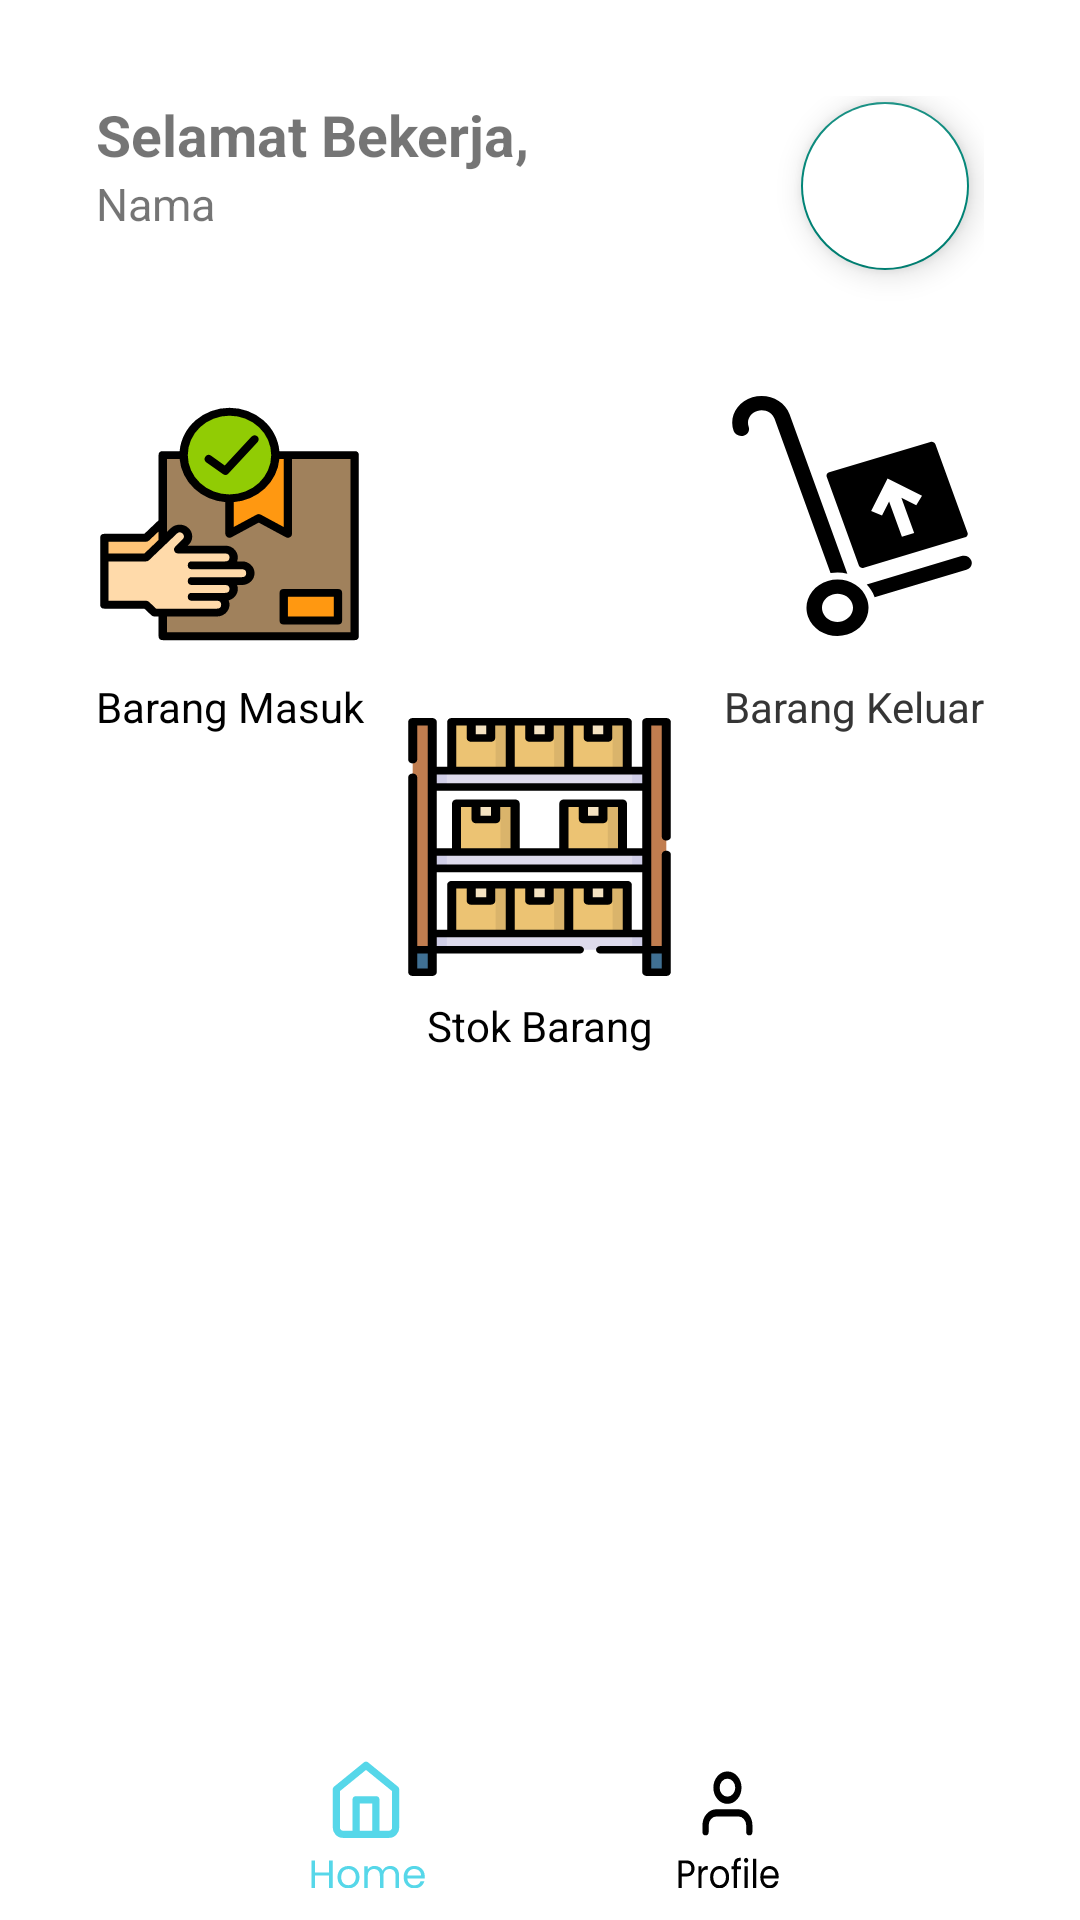

Named icons in this screenshot (1080×1920) and their bounding boxes, Rect(x1, y1, x2, y2):
frame user: Rect(678, 1771, 779, 1888)
package transport: Rect(732, 396, 972, 636)
